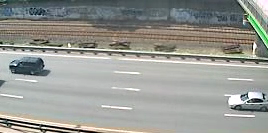car: (226, 90, 268, 113), (8, 55, 47, 78)
